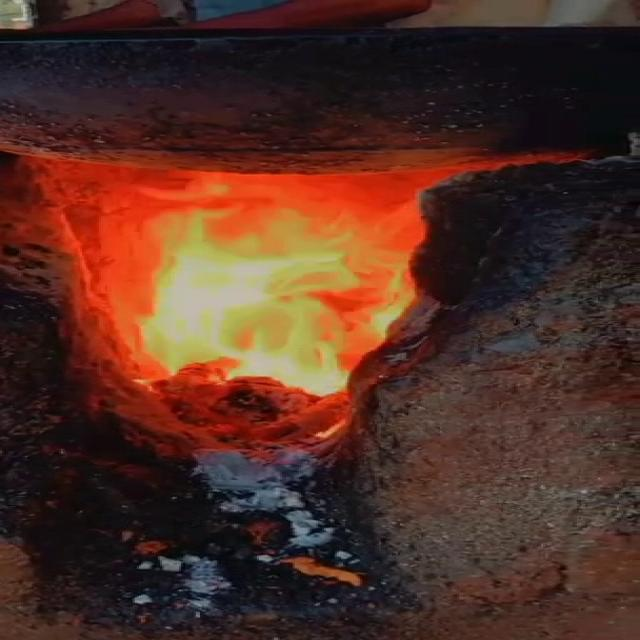Fire: (40, 159, 478, 424)
